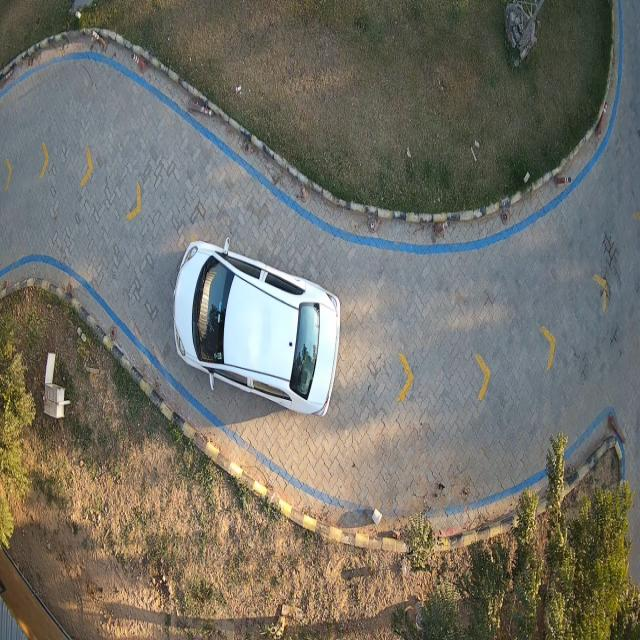car: (172, 240, 340, 414)
